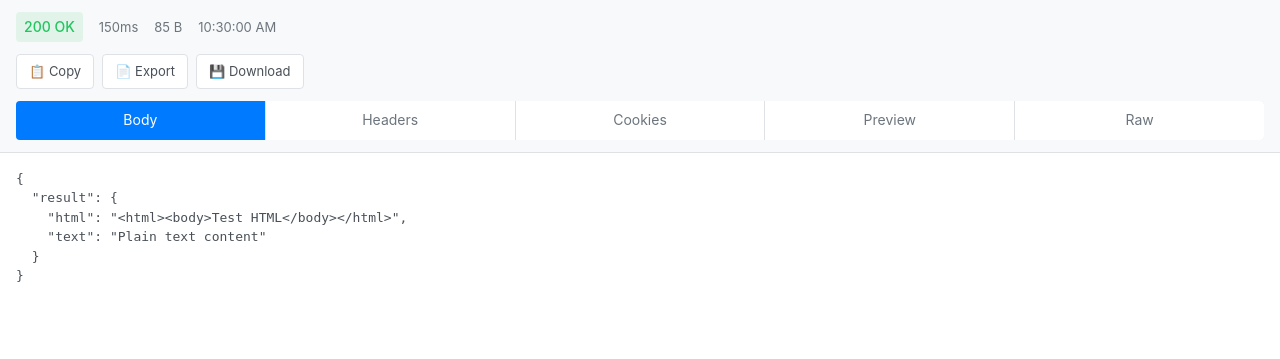
Test case: ResponseView › should show property selector when preview tab is active
What coordinates should you click on to do the following:
click the button "Preview"
I would click on:
 (890, 120)
Its box is [765,101,1014,140].
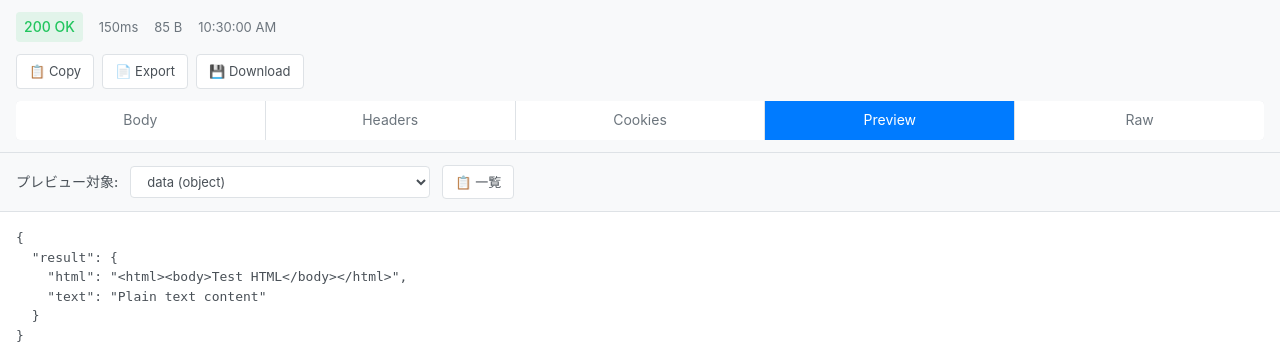
Now the text "プレビュー対象:" is shown, box [16,171,118,193]
Now the dropdown is shown, box [130,166,430,198]
